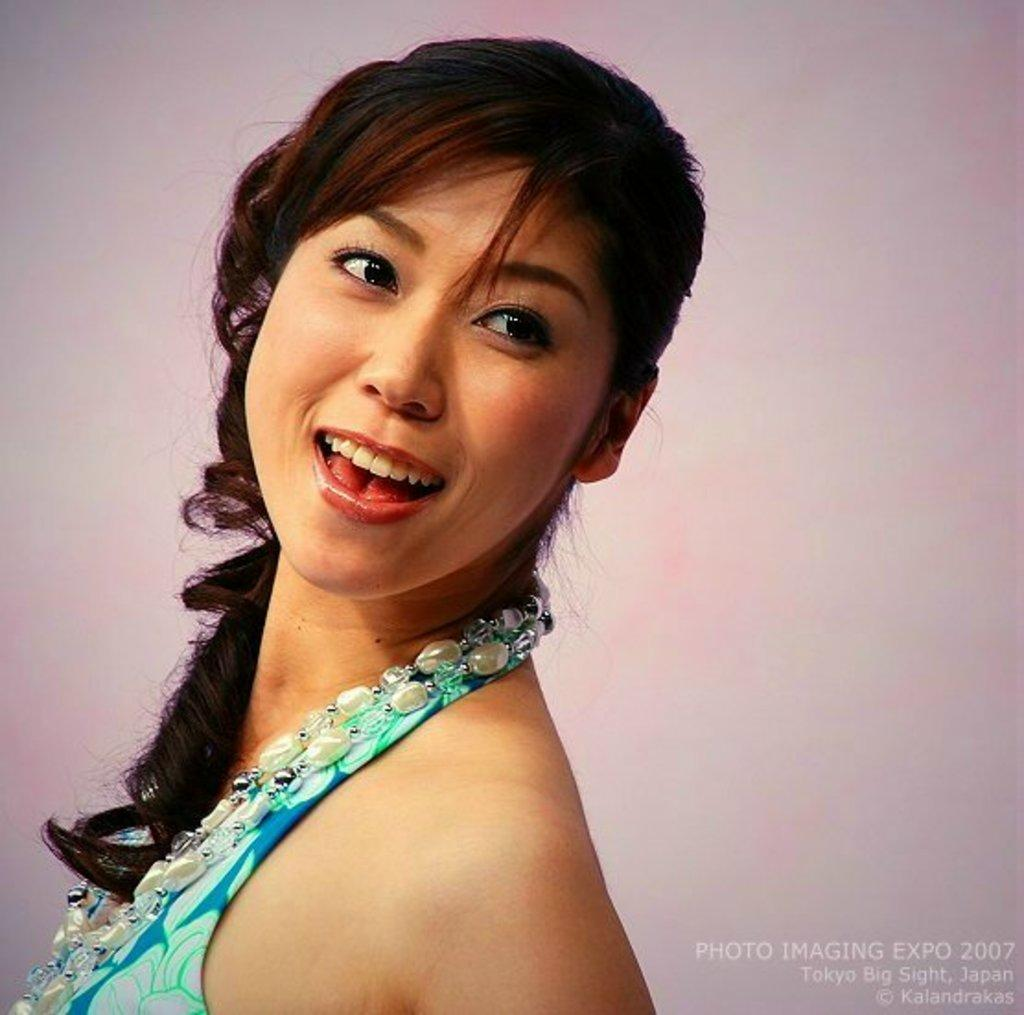Sem Máscara: (235, 138, 615, 597)
